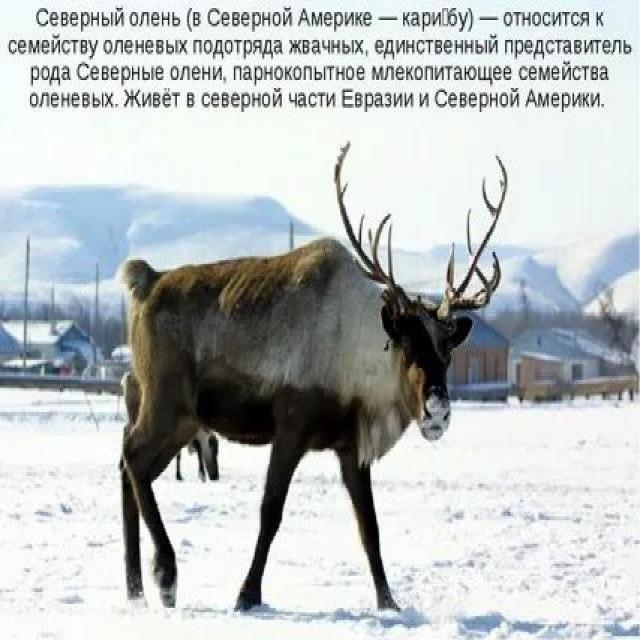deer: (136, 178, 574, 557)
